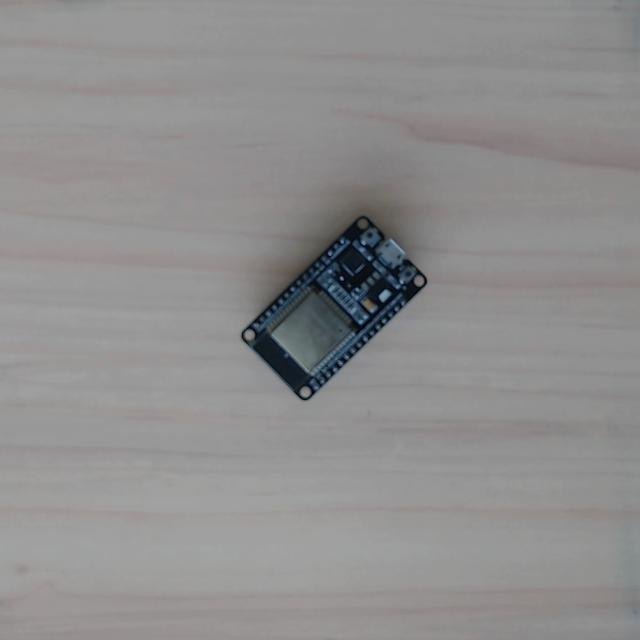ESP32-DevKit: (238, 211, 432, 403)
